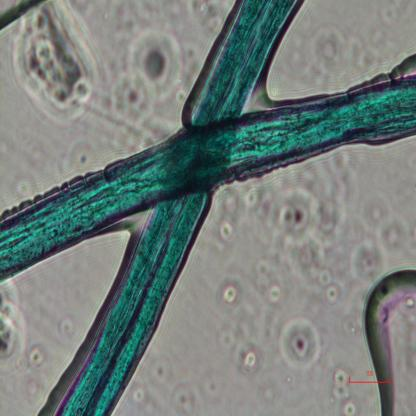Air bubble: (363, 268, 416, 416), (0, 0, 50, 29)
Background material: (18, 9, 100, 121), (134, 32, 185, 96), (110, 75, 166, 129), (363, 188, 404, 250), (0, 280, 29, 366), (282, 313, 324, 372), (275, 187, 319, 243), (310, 20, 347, 78), (350, 236, 386, 284), (215, 320, 249, 354), (62, 134, 92, 172), (192, 1, 224, 35), (134, 384, 166, 415), (170, 380, 201, 412), (318, 265, 341, 307), (360, 43, 386, 77), (236, 341, 264, 372), (198, 370, 225, 402), (330, 366, 350, 401), (152, 353, 173, 386), (27, 342, 50, 370), (220, 282, 243, 306), (337, 396, 360, 416), (220, 220, 235, 245), (58, 314, 75, 336), (268, 284, 284, 304)
Microfibre: (53, 0, 302, 414), (0, 75, 416, 285)
